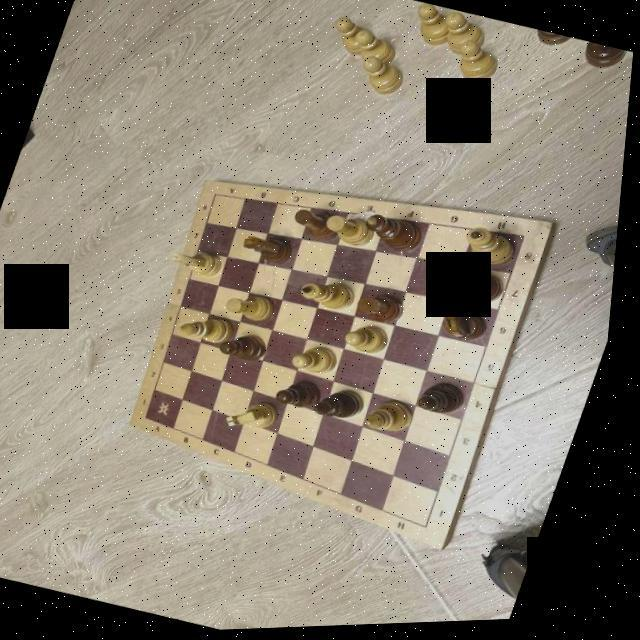chess-table-corners: (522, 235, 536, 244), (432, 524, 442, 534), (214, 191, 224, 199), (150, 414, 156, 420)
